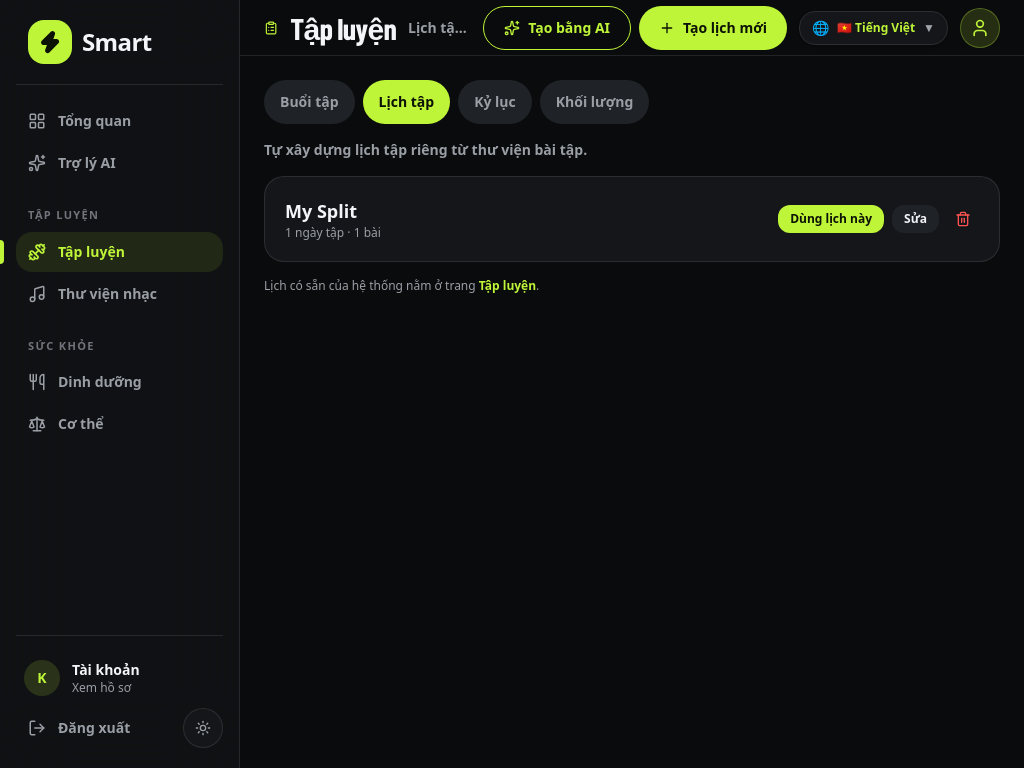
Test: Routines: using, deleting › a failed delete is reported
Click the button named "Xóa lịch tập My Split": (963, 219) [947, 203, 979, 235]
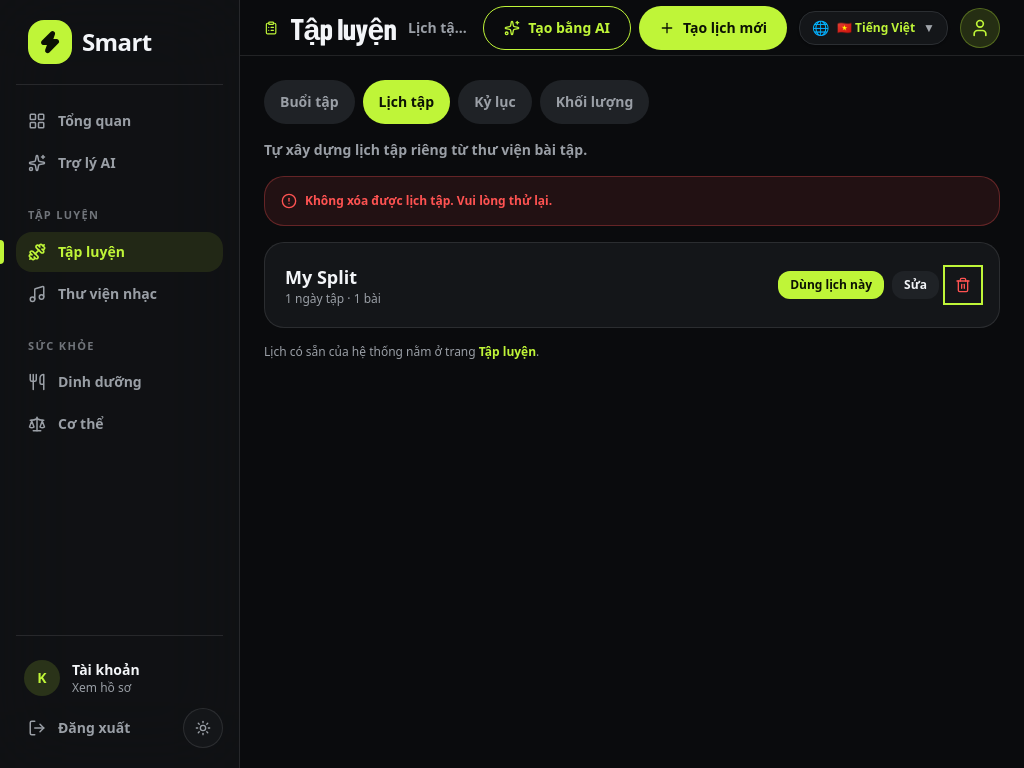
expect the message shows "Không xóa được": met, box [305, 192, 552, 209]
